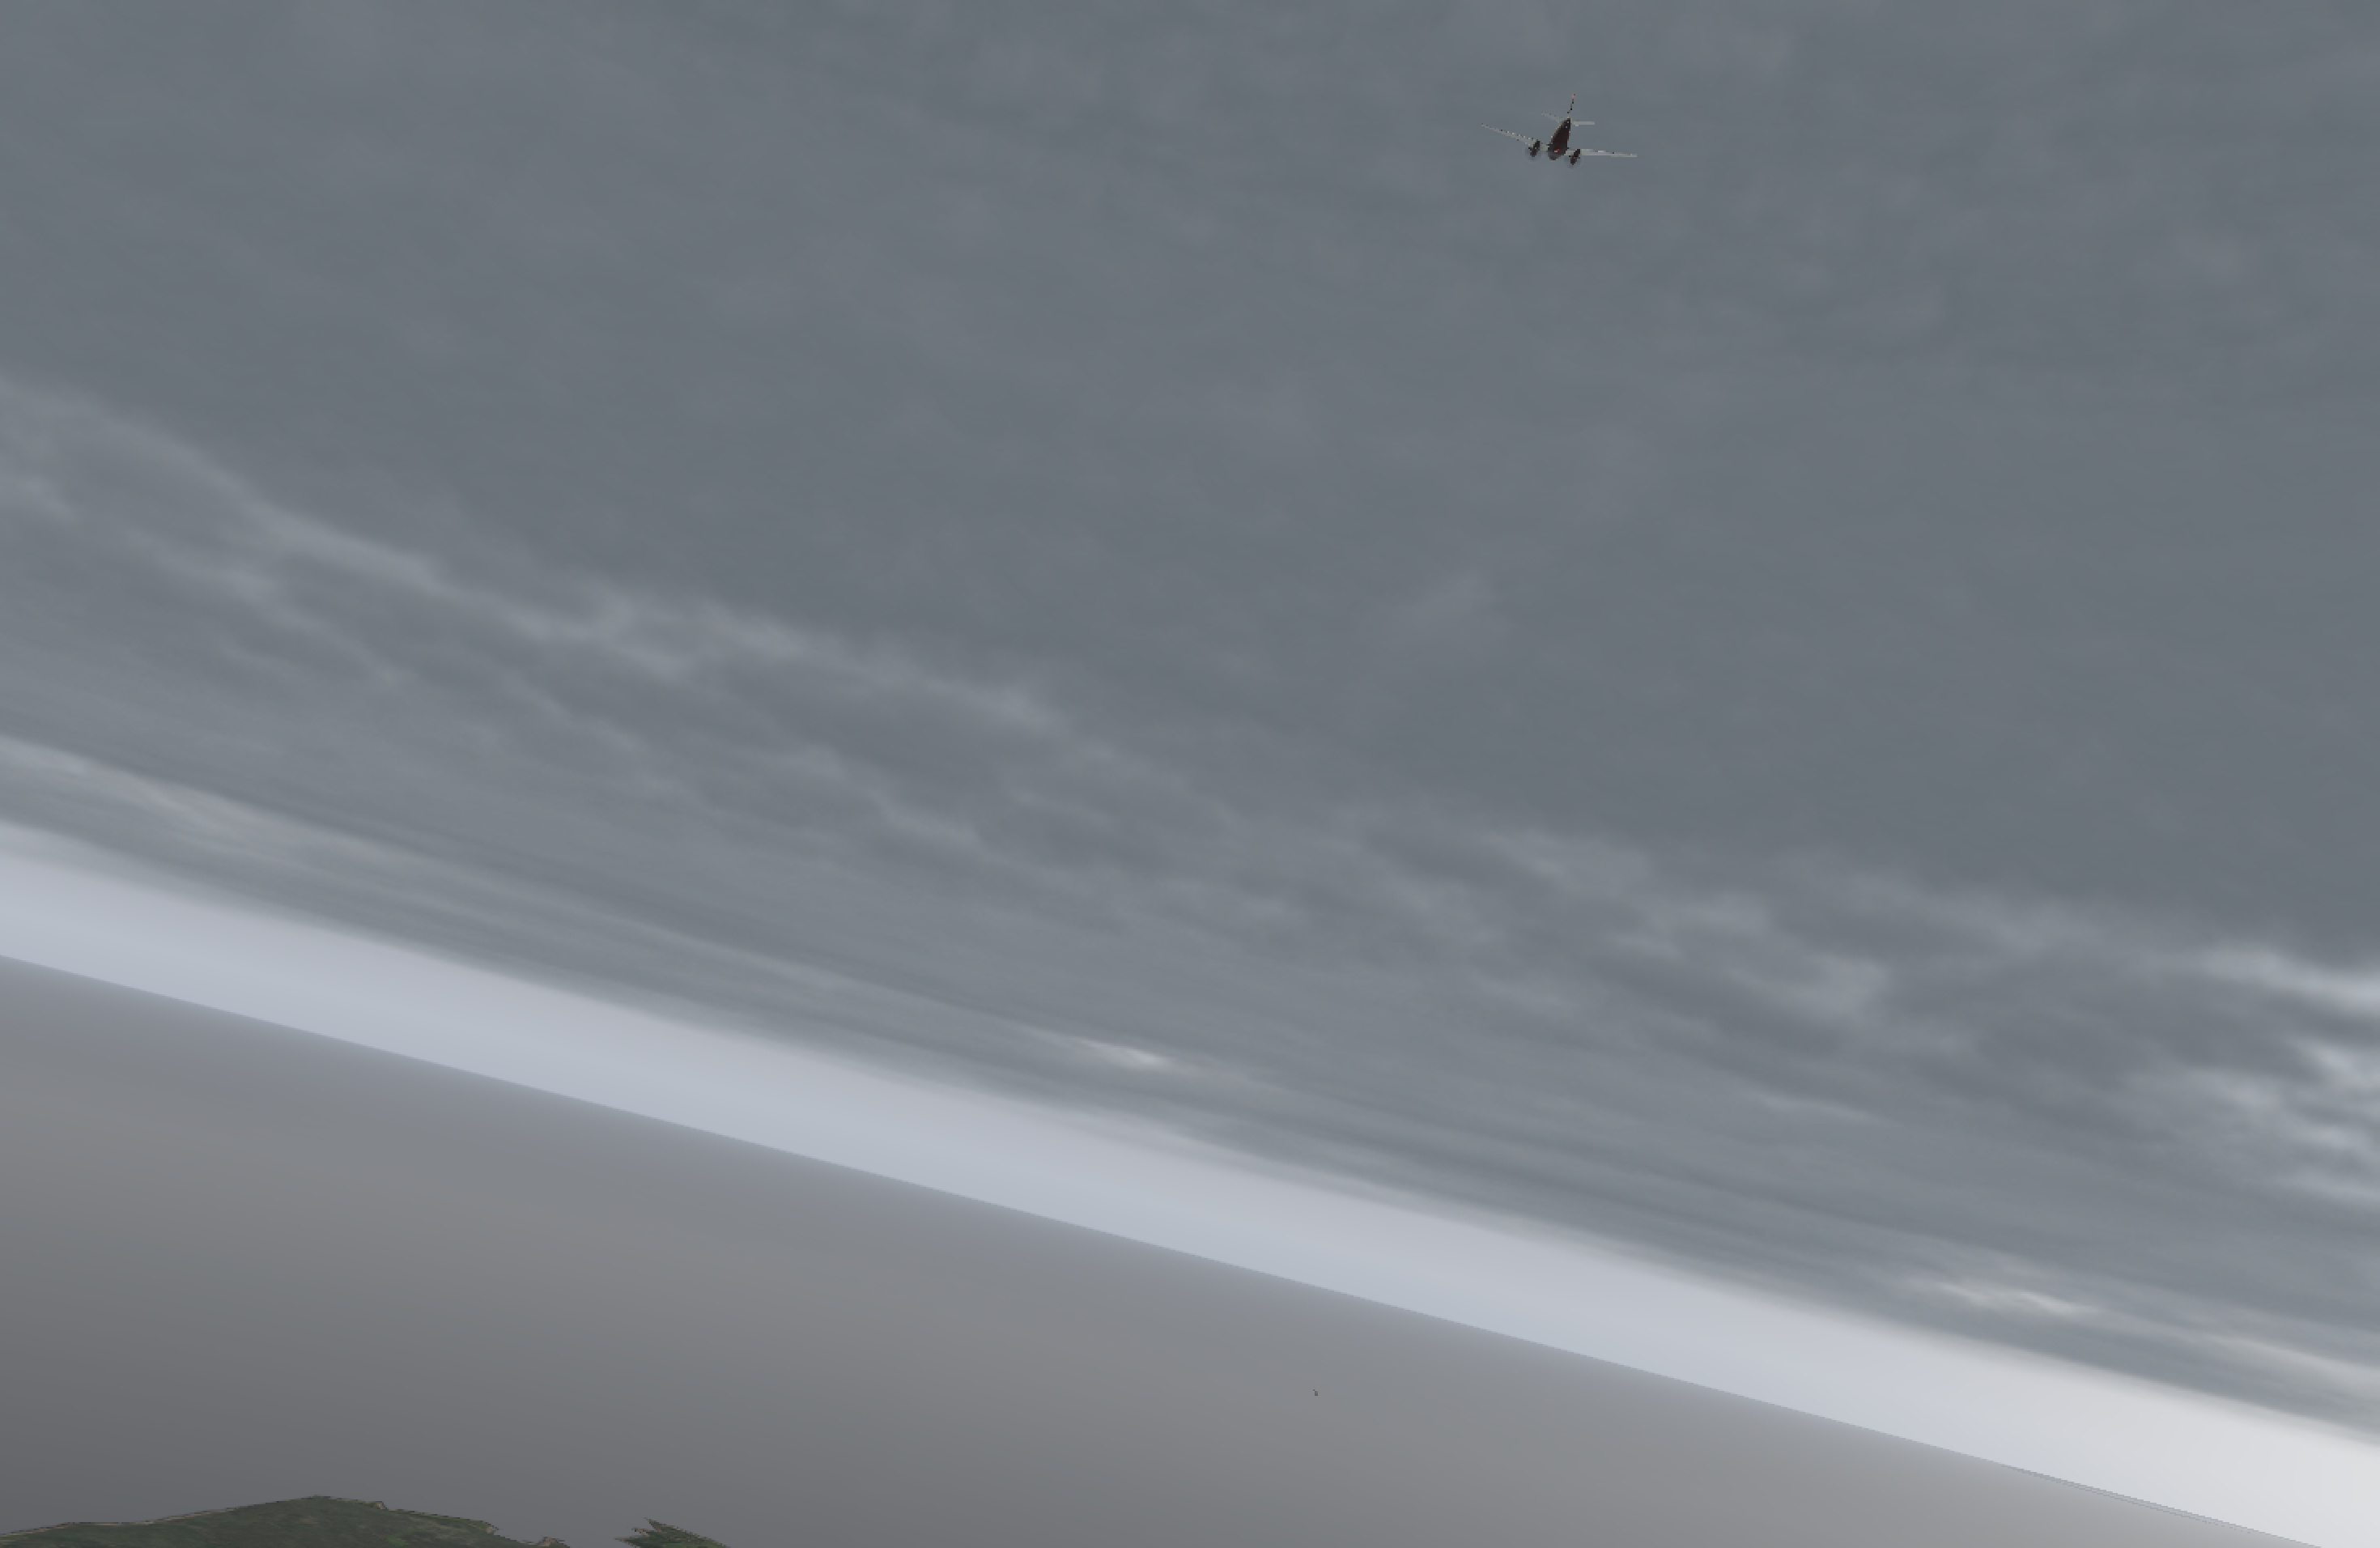aircraft: (1480, 123, 1632, 180)
